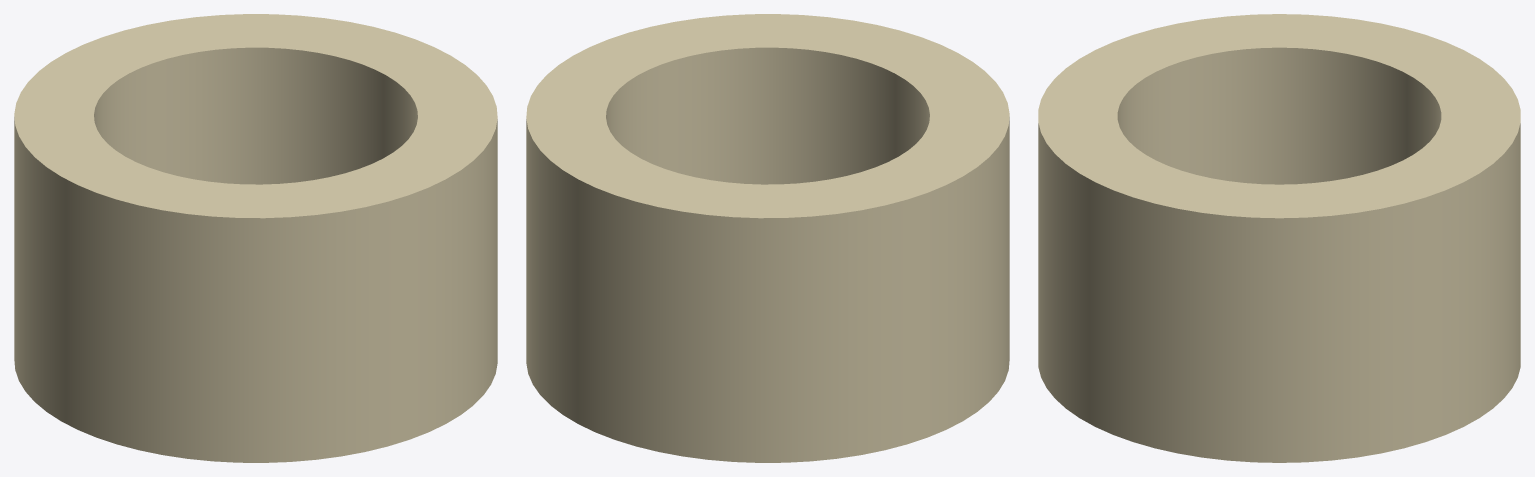
Rendered from distributor-bushing.glb.
3 renders of one model, left to right at view 1: azimuth 30°, elevation 25°; view 2: azimuth 150°, elevation 25°; view 3: azimuth 270°, elevation 25°, orthographic.
Visible parts, largest first — view 1: world; view 2: world; view 3: world.
Part boxes in pixels (<box>): world: <box>14,14,497,462</box>; world: <box>526,14,1009,462</box>; world: <box>1038,14,1520,462</box>.
Bounding box in the file's own units: 0.0179 × 0.01 × 0.0179.
